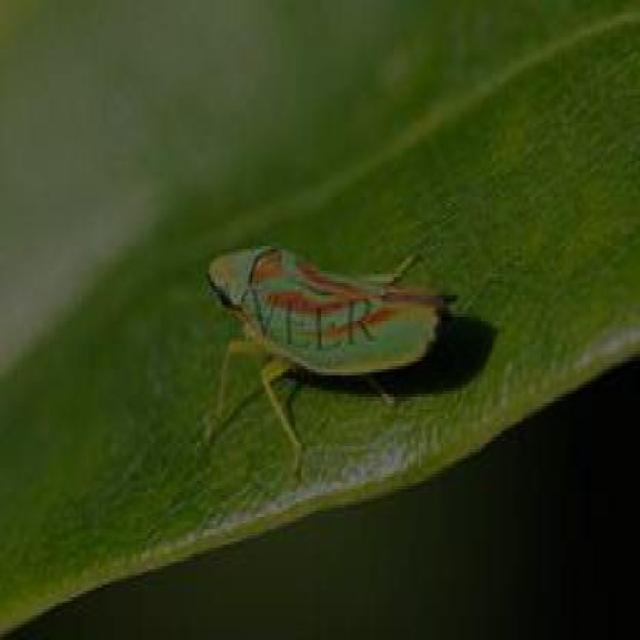green-leafhopper: (193, 220, 455, 460)
